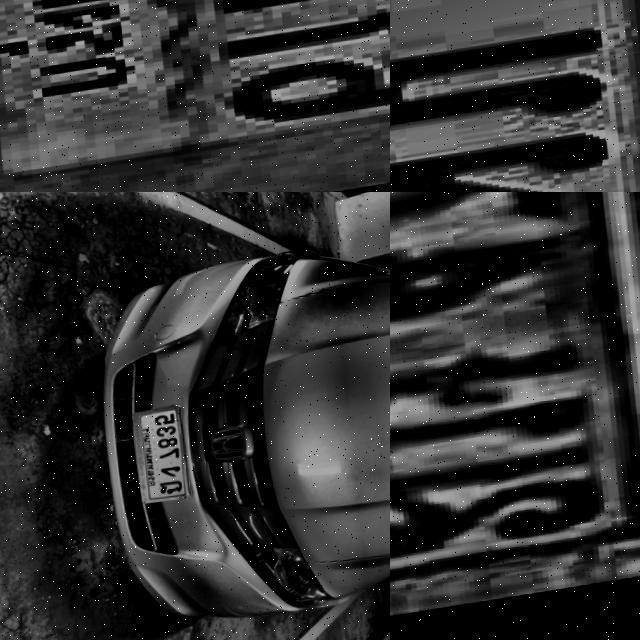license-plate: (390, 192, 640, 640), (0, 0, 390, 192), (390, 0, 640, 192), (125, 406, 191, 510)
